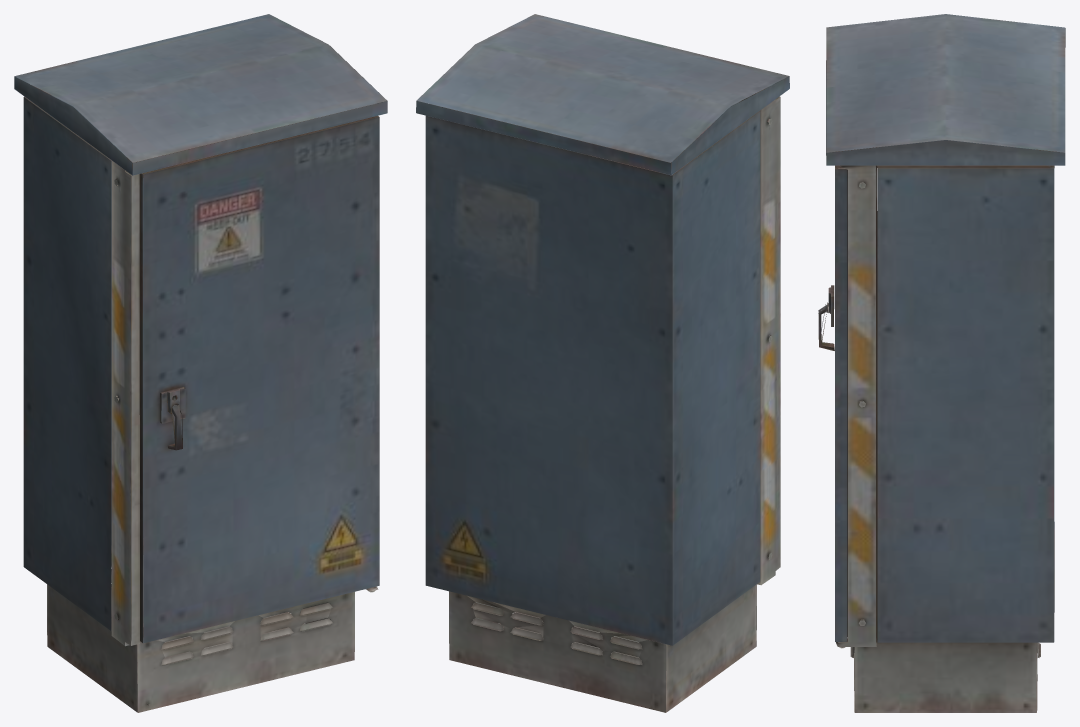
File: utility_box_01.glb
3 renders of one model, left to right at view 1: azimuth 30°, elevation 25°; view 2: azimuth 150°, elevation 25°; view 3: azimuth 270°, elevation 25°, orthographic.
Visible parts, largest first — view 1: utility_box_01_box; view 2: utility_box_01_box; view 3: utility_box_01_box.
Part boxes in pixels (x1,y1,x2,y2): utility_box_01_box: (14,14,387,712); utility_box_01_box: (416,14,789,712); utility_box_01_box: (818,14,1065,712).
Bounding box in the file's own units: 0.5178 × 1.12 × 0.4298.
1 material, 1 textured.
